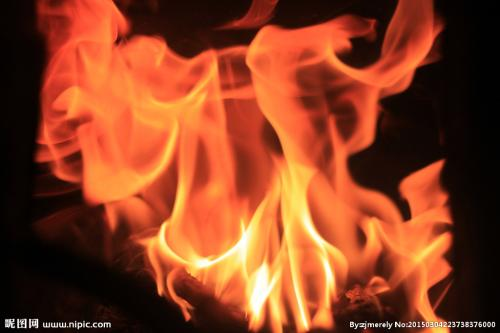fire: (70, 37, 376, 290)
